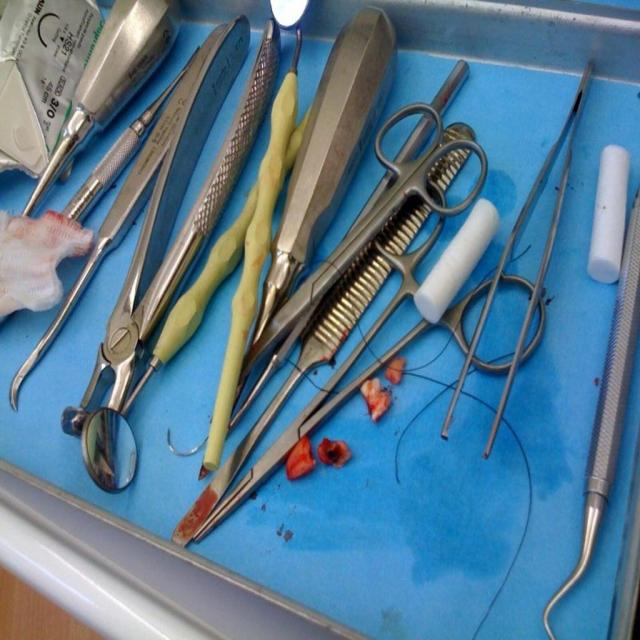scissor: (194, 178, 546, 543), (235, 100, 481, 371)
